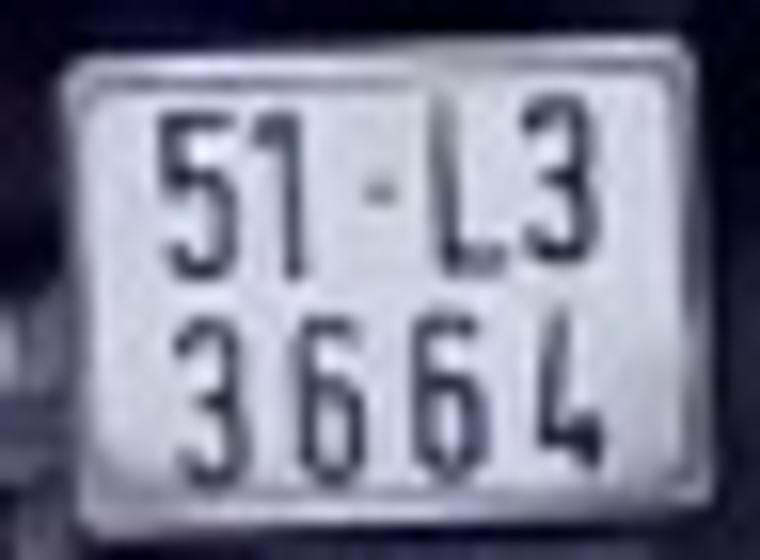-: (352, 169, 407, 208)
1: (249, 97, 327, 295)
3: (166, 311, 264, 496), (523, 84, 598, 267)
4: (530, 302, 608, 481)
5: (150, 106, 240, 285)
6: (290, 308, 371, 488), (411, 306, 491, 479)
L: (424, 92, 518, 282)
